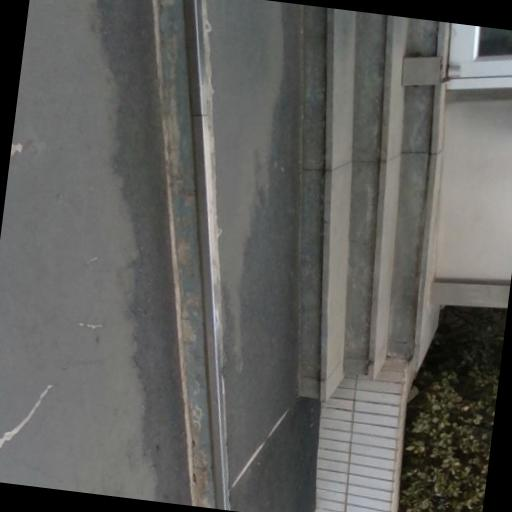stairs: (298, 5, 442, 399)
